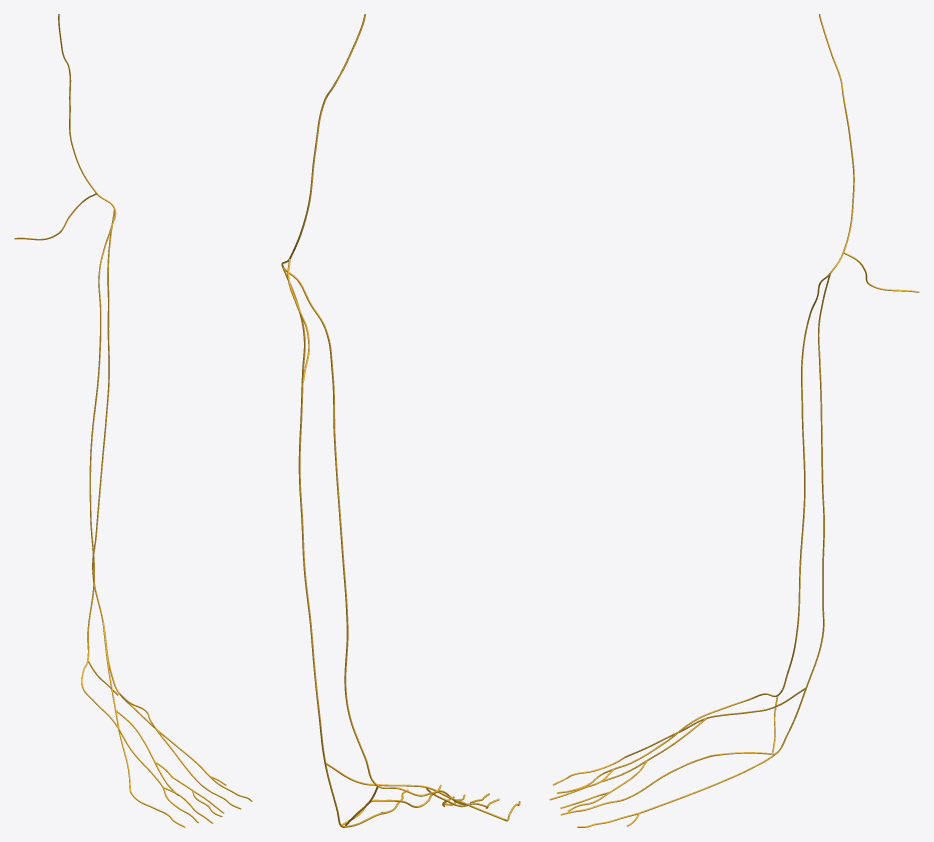
File: nervoso-common-fibular-nerve-l.glb
3 renders of one model, left to right at view 1: azimuth 30°, elevation 25°; view 2: azimuth 150°, elevation 25°; view 3: azimuth 270°, elevation 25°, orthographic. The views are drawn at different scales.
Parts seen in each view (by area): view 1: Deep fibular nerve.l, Superficial fibular nerve.l, Dorsal digital branches of superficial fibular nerve.l, Medial dorsal cutaneous nerve of foot.l; view 2: Deep fibular nerve.l, Superficial fibular nerve.l, Common fibular nerve.l, Medial dorsal cutaneous nerve of foot.l; view 3: Deep fibular nerve.l, Dorsal digital branches of superficial fibular nerve.l, Superficial fibular nerve.l, Medial dorsal cutaneous nerve of foot.l.
Boxes of the visible parts, x1=… form: Deep fibular nerve.l: x1=81, y1=209, x2=132, y2=750; Superficial fibular nerve.l: x1=92, y1=209, x2=114, y2=622; Dorsal digital branches of superficial fibular nerve.l: x1=130, y1=746, x2=252, y2=827; Medial dorsal cutaneous nerve of foot.l: x1=102, y1=622, x2=172, y2=791; Deep fibular nerve.l: x1=284, y1=267, x2=456, y2=802; Superficial fibular nerve.l: x1=282, y1=266, x2=326, y2=763; Common fibular nerve.l: x1=281, y1=14, x2=365, y2=267; Medial dorsal cutaneous nerve of foot.l: x1=326, y1=763, x2=504, y2=820; Deep fibular nerve.l: x1=663, y1=273, x2=830, y2=743; Dorsal digital branches of superficial fibular nerve.l: x1=552, y1=756, x2=689, y2=827; Superficial fibular nerve.l: x1=805, y1=274, x2=830, y2=688; Medial dorsal cutaneous nerve of foot.l: x1=622, y1=687, x2=805, y2=779.
Size of the model in its own units: 0.0765 by 0.5265 by 0.2284.
